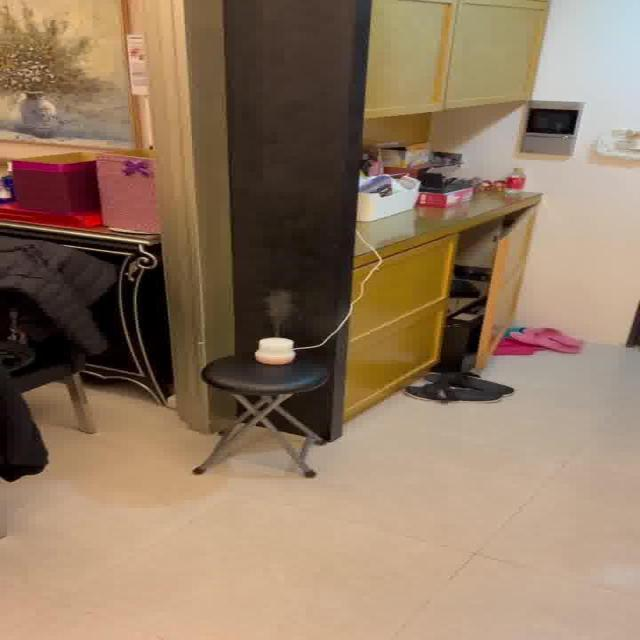fire: (251, 286, 305, 333)
